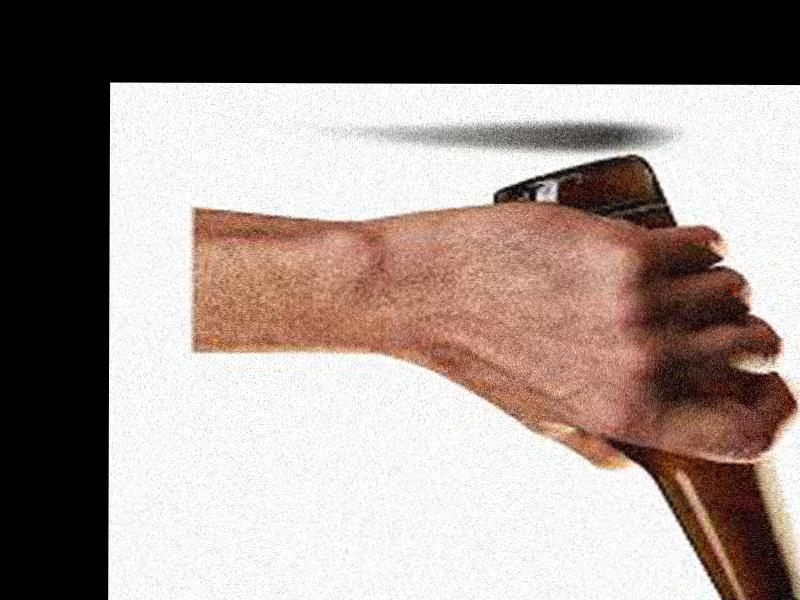Beer: (492, 148, 800, 600)
